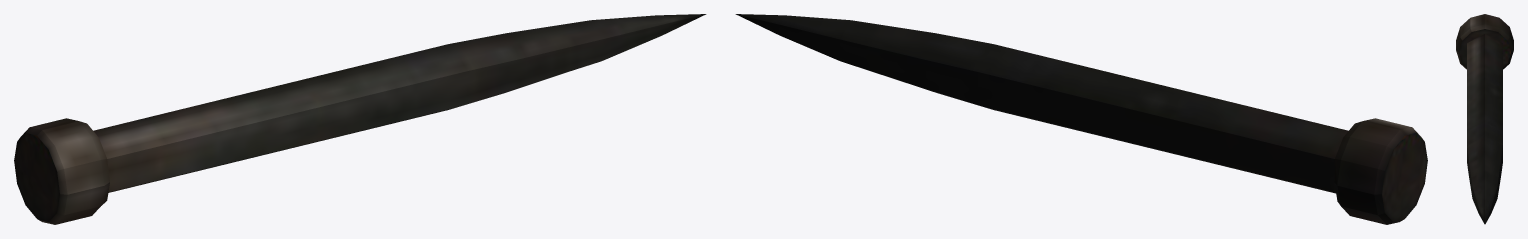
The model's file is spike.obj.
The picture shows the model from 3 angles, left to right: view 1: azimuth 30°, elevation 25°; view 2: azimuth 150°, elevation 25°; view 3: azimuth 270°, elevation 25°; orthographic projection. The views are drawn at different scales.
Bounding box in the file's own units: 9.96 × 1.31 × 1.31.
1 material, 1 textured.
